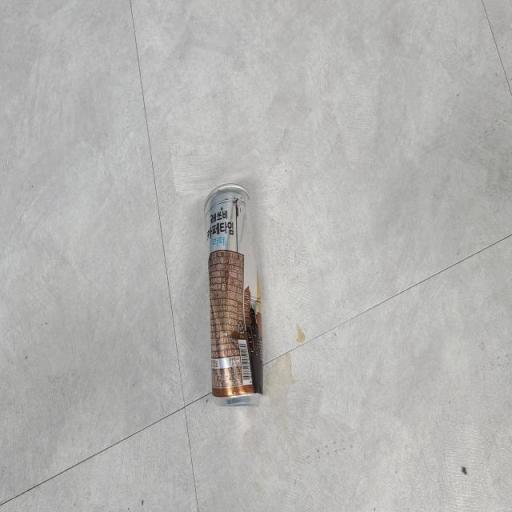metal: (183, 106, 292, 446)
